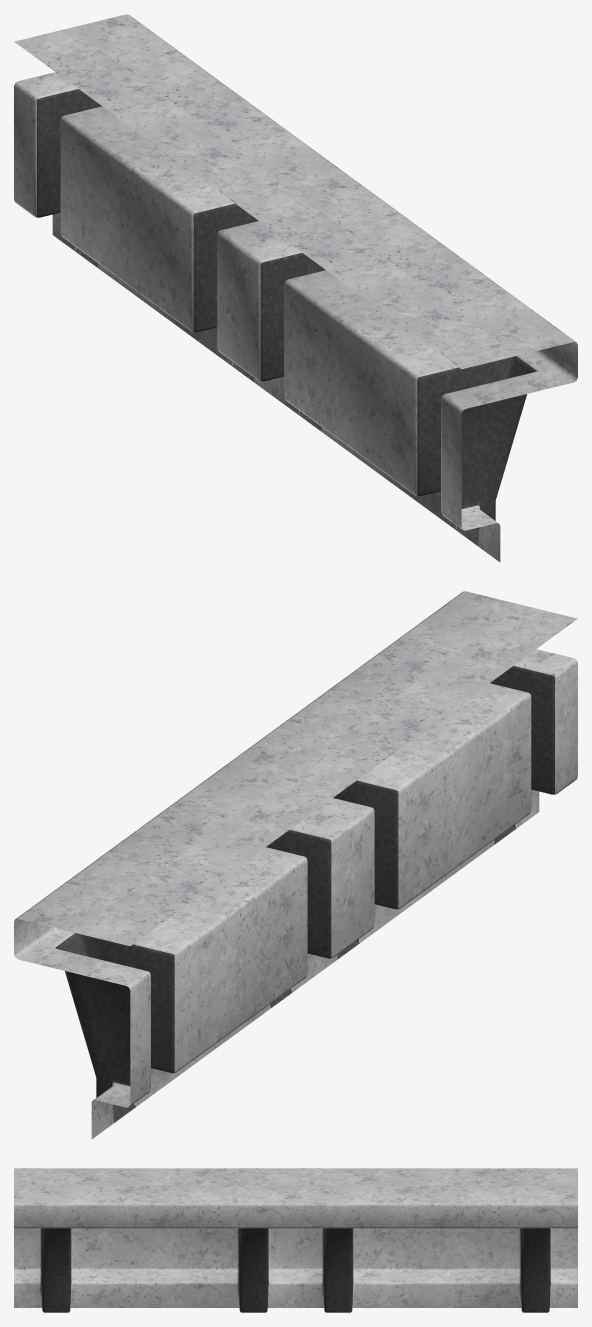
Rendered from FloorSeparation.fbx.
The picture shows the model from 3 angles, top to bottom: view 1: azimuth 30°, elevation 25°; view 2: azimuth 150°, elevation 25°; view 3: azimuth 270°, elevation 25°; orthographic projection. The views are drawn at different scales.
Visible parts, largest first — view 1: FloorSeparation; view 2: FloorSeparation; view 3: FloorSeparation.
Part boxes in pixels (x1,y1,x2,y2): FloorSeparation: [14, 14, 577, 562]; FloorSeparation: [14, 591, 577, 1139]; FloorSeparation: [14, 1168, 577, 1312].
Bounding box in the file's own units: 200 × 50 × 30.
1 material, 1 textured.
